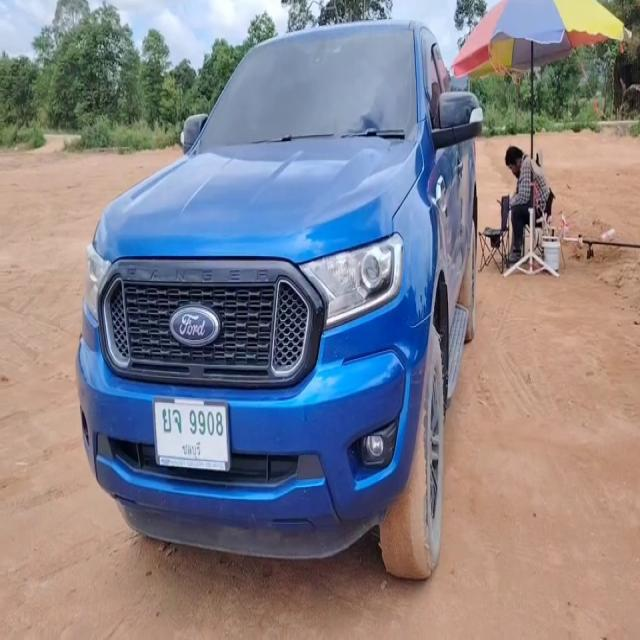Digit: (188, 406, 222, 436)
Licenseplate: (153, 397, 230, 473)
Provincename: (181, 440, 202, 459)
Thaichar: (162, 408, 182, 436)
